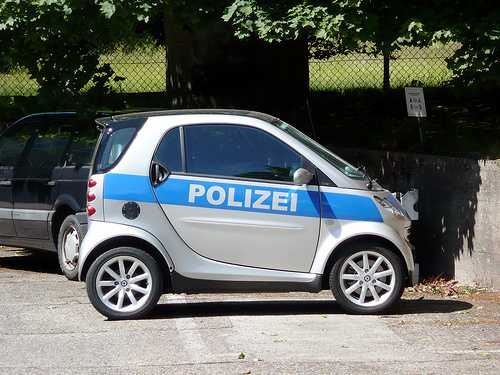Police Car: (81, 104, 439, 343)
